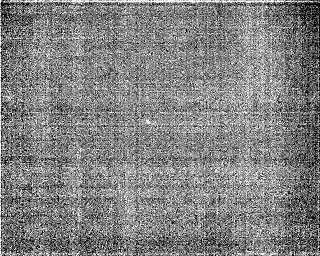AIRPLANE: (144, 117, 152, 127)
